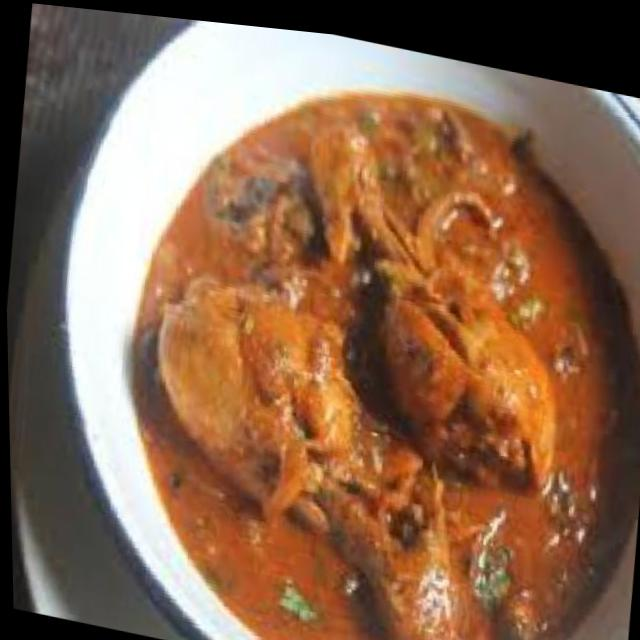CHICKEN CURRY: (120, 94, 640, 640)
